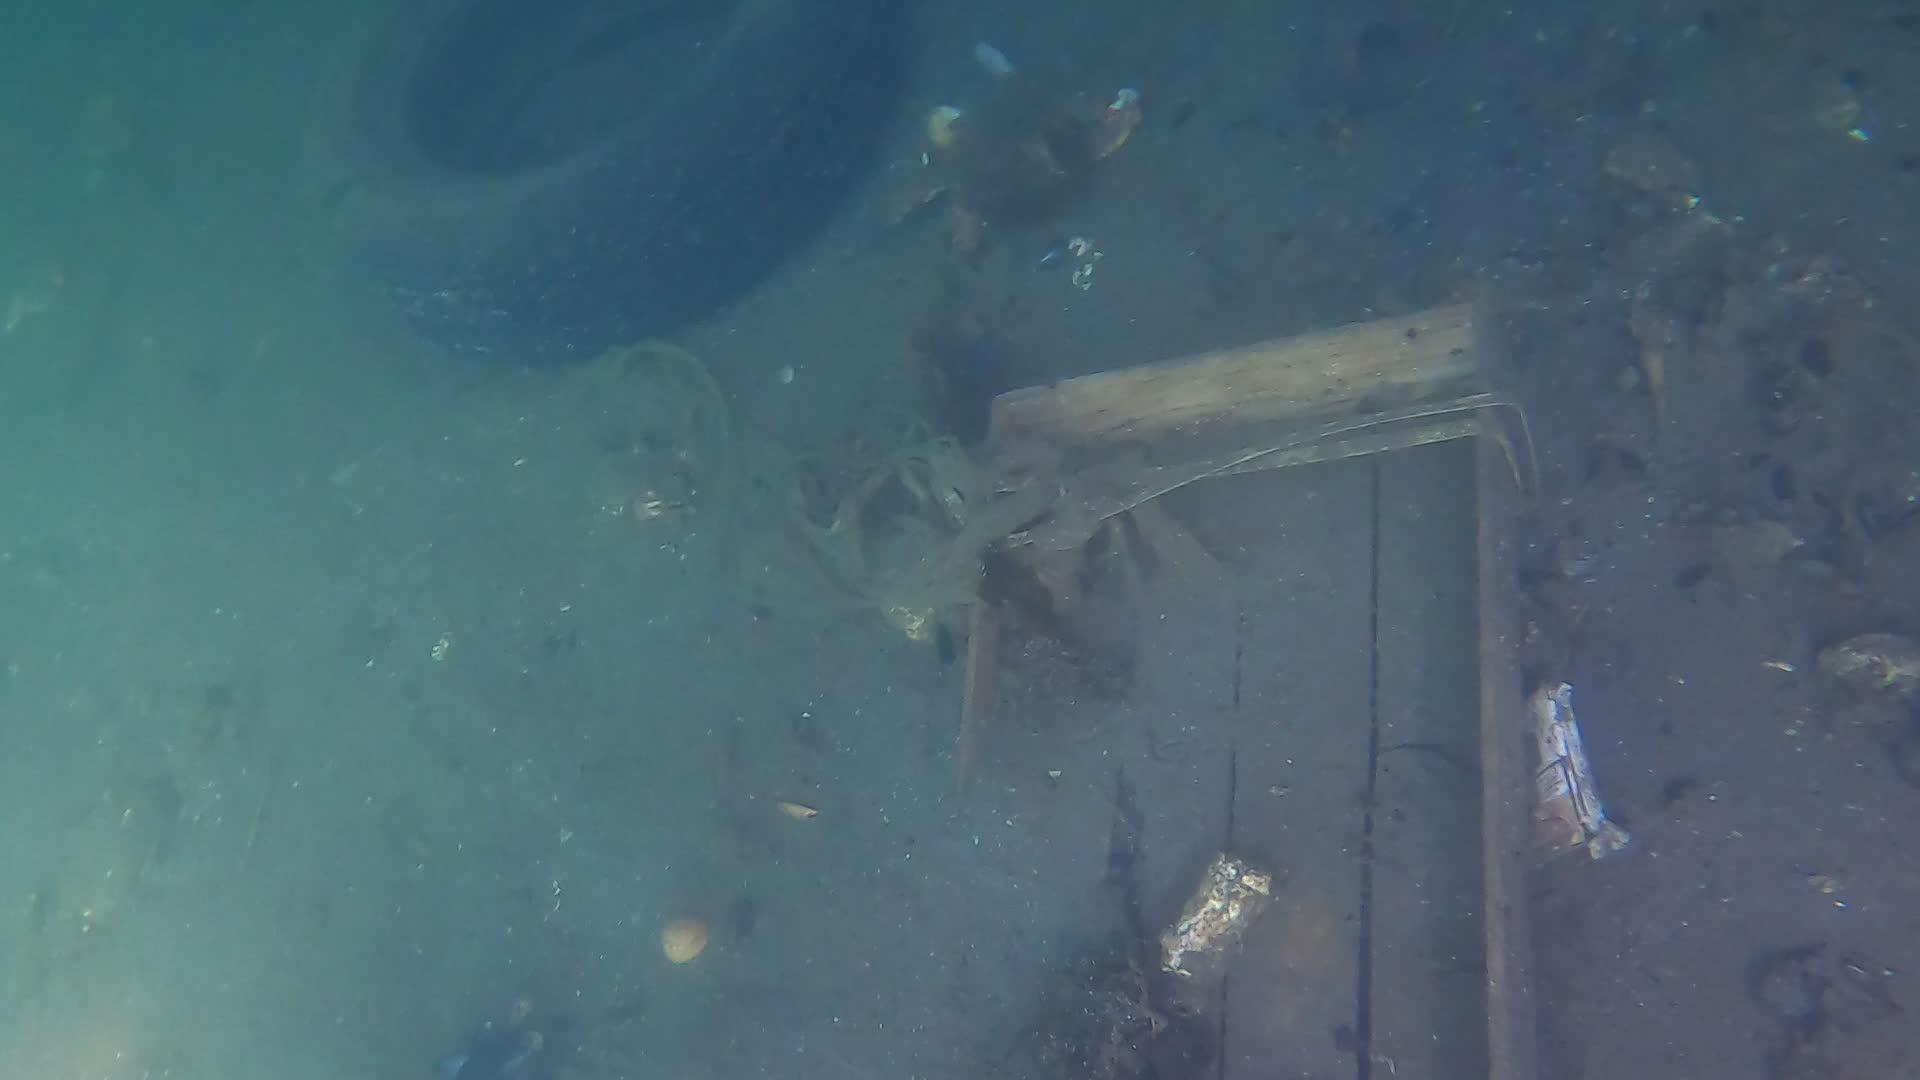tire: (320, 0, 916, 371)
